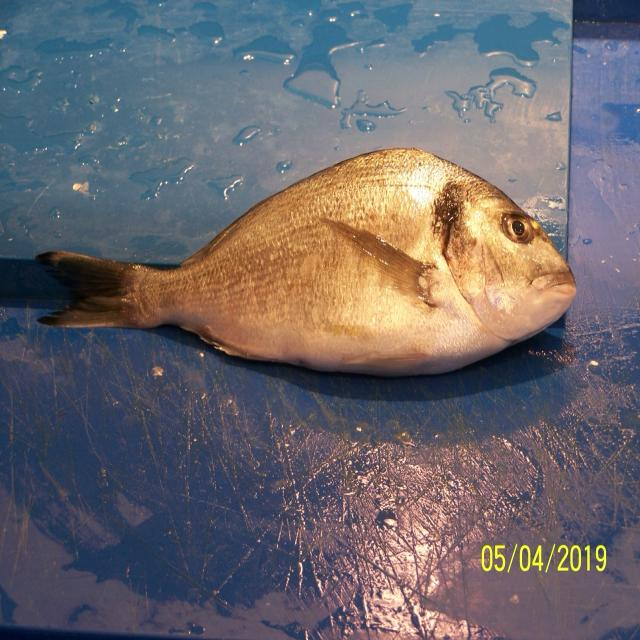Gilt-Head-Bream-c-ipura-: (33, 148, 576, 380)
